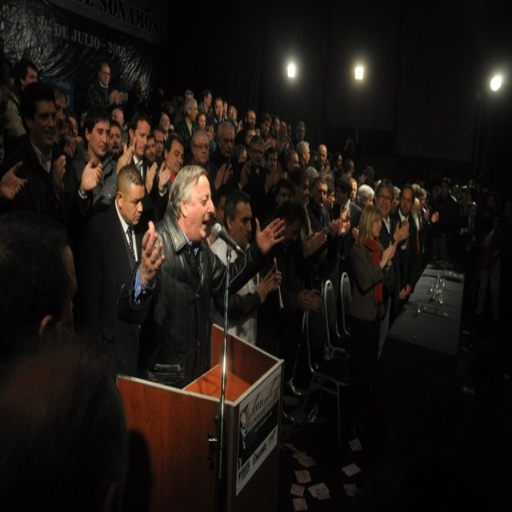hand: (126, 220, 166, 278), (253, 214, 285, 255), (0, 159, 28, 204), (80, 152, 102, 193), (51, 152, 67, 195), (254, 269, 273, 304), (142, 156, 157, 193), (305, 287, 323, 314), (115, 145, 132, 173), (303, 232, 320, 256), (156, 160, 169, 191), (293, 289, 312, 309), (392, 219, 409, 240), (387, 236, 399, 261), (213, 163, 225, 186), (380, 245, 392, 268), (222, 163, 232, 186), (68, 136, 80, 155), (329, 218, 340, 236), (340, 216, 351, 234), (319, 227, 328, 248), (273, 268, 281, 290), (115, 90, 124, 104), (108, 90, 116, 104)
